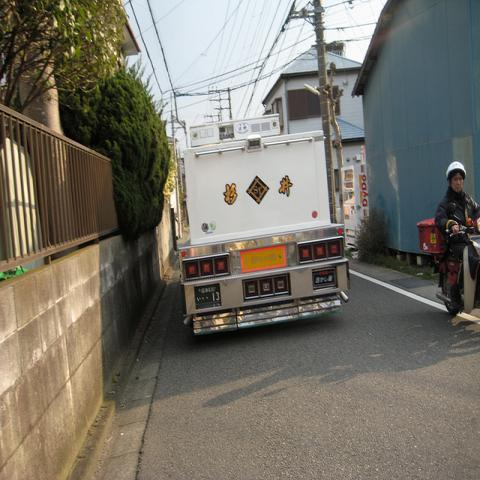motorcycle: (416, 203, 480, 315)
truck: (169, 91, 348, 336)
